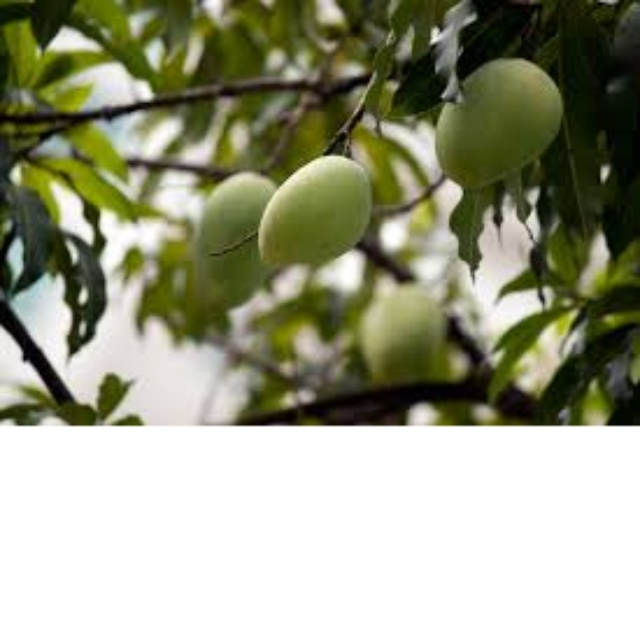thanh_long: (433, 45, 568, 195), (251, 146, 394, 280)
